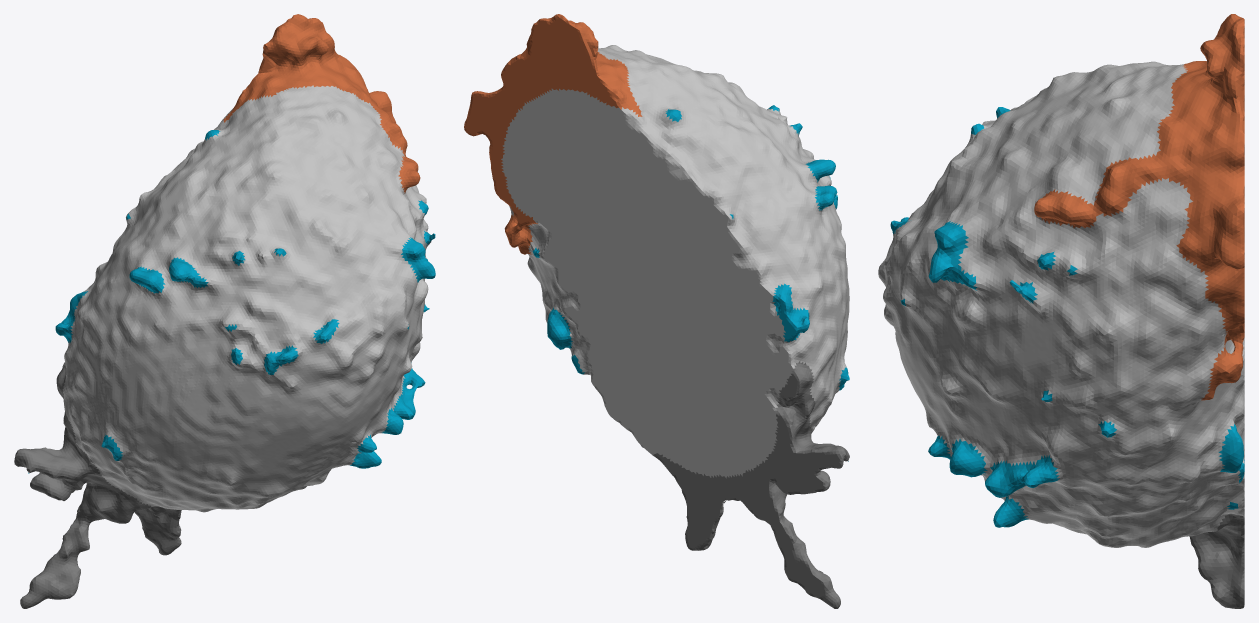
3 renders of one model, left to right at view 1: azimuth 30°, elevation 25°; view 2: azimuth 150°, elevation 25°; view 3: azimuth 270°, elevation 25°, orthographic. The views are drawn at different scales.
Size of the model in its own units: 115 by 153 by 71.7.
